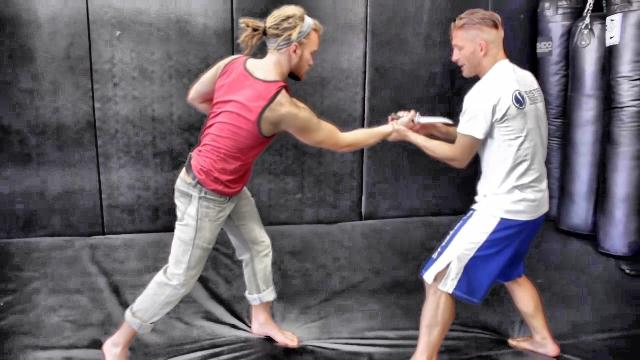knife: (387, 108, 458, 130)
